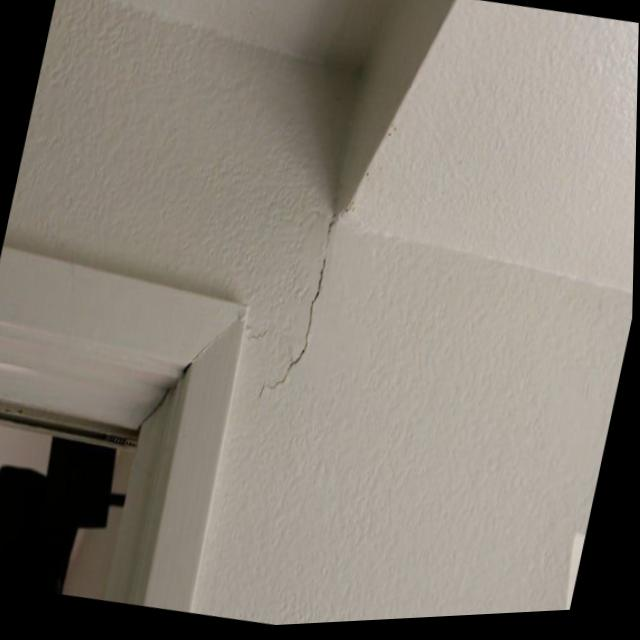Crack: (292, 226, 338, 375), (258, 371, 291, 402)
